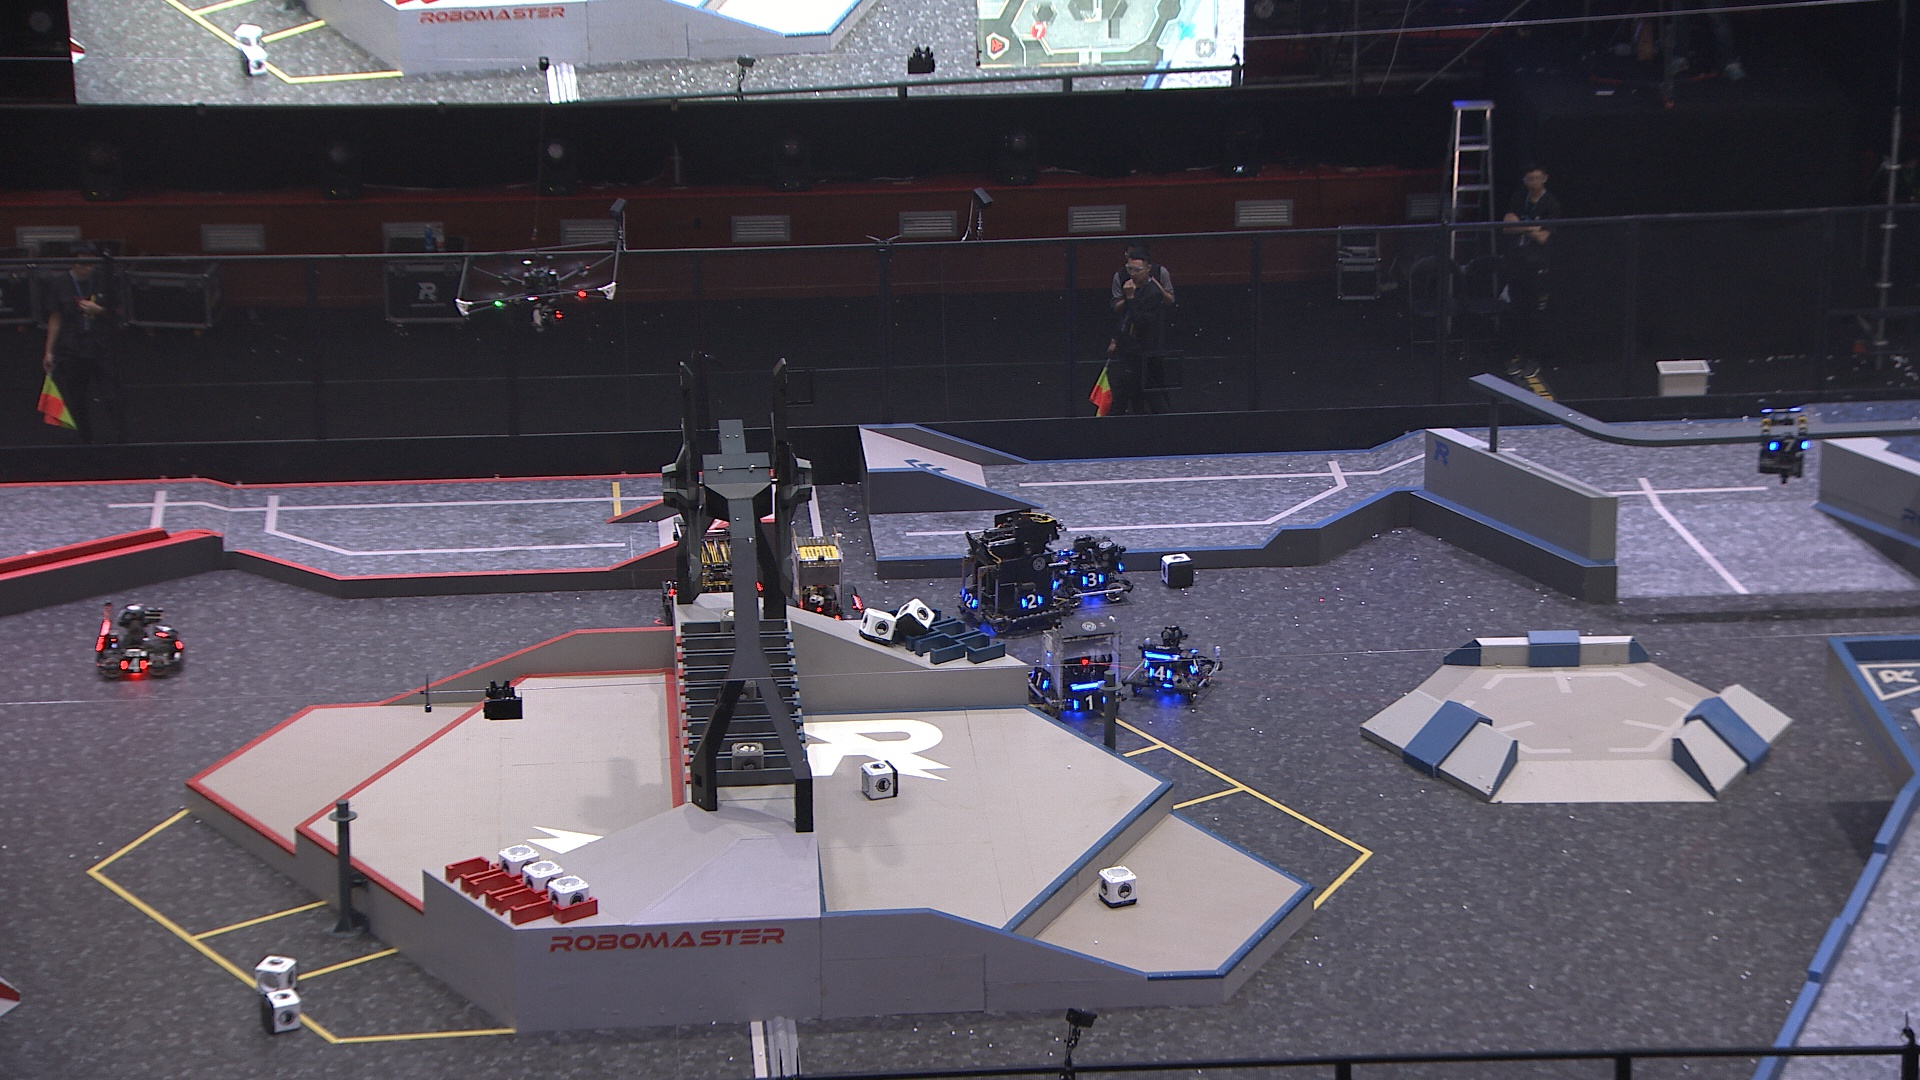armor: (1771, 436, 1808, 458), (1069, 694, 1106, 711), (119, 655, 149, 674), (1145, 666, 1174, 683), (1029, 669, 1048, 690), (1083, 572, 1105, 588), (961, 589, 977, 612), (1021, 593, 1040, 611), (1188, 657, 1203, 678), (154, 621, 171, 638)
car: (953, 506, 1065, 644), (655, 514, 774, 636), (1022, 607, 1125, 717), (771, 527, 869, 640), (91, 597, 189, 684), (1133, 622, 1218, 698), (1050, 533, 1134, 604)
watcher: (1756, 404, 1813, 480)
